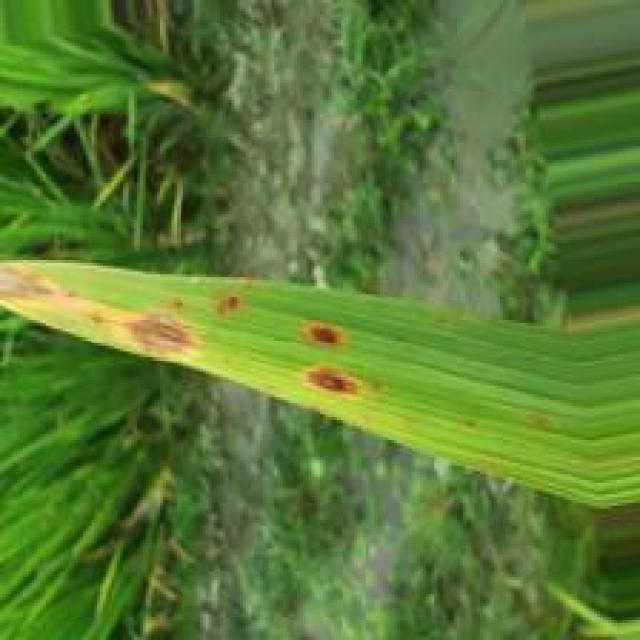Brown_Spot: (122, 311, 203, 360), (1, 265, 73, 302), (297, 365, 369, 398), (308, 318, 347, 349), (216, 290, 241, 317), (168, 294, 186, 312), (90, 312, 104, 326)
